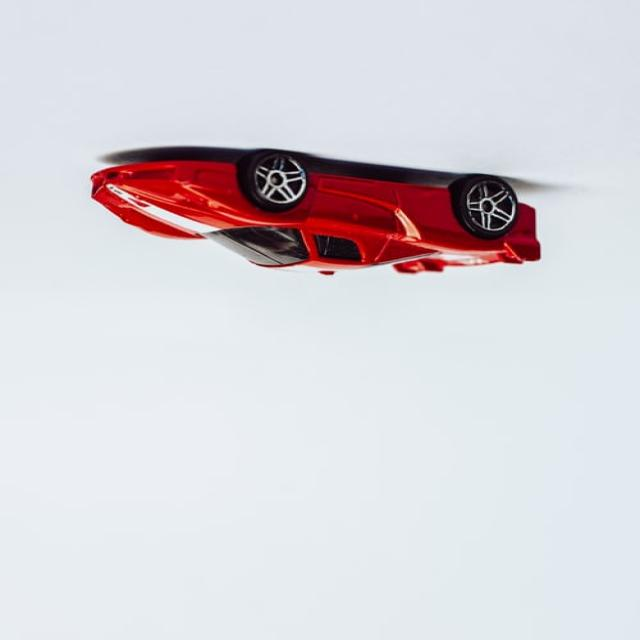Car: (91, 151, 540, 274)
